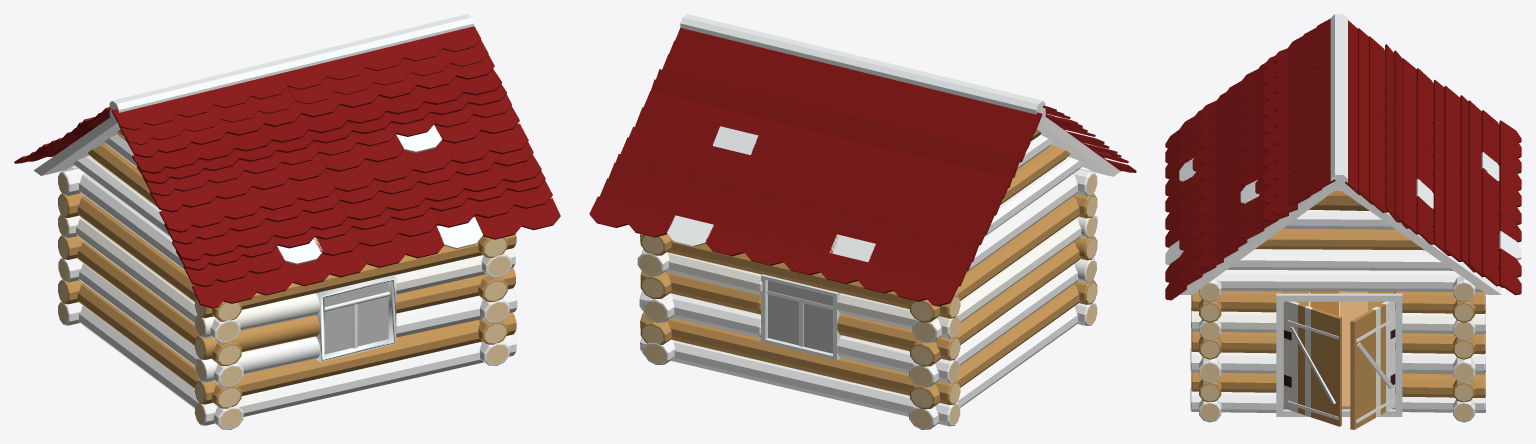
File: House_Phse2.fbx
The picture shows the model from 3 angles, left to right: view 1: azimuth 30°, elevation 25°; view 2: azimuth 150°, elevation 25°; view 3: azimuth 270°, elevation 25°; orthographic projection. The views are drawn at different scales.
Parts seen in each view (by area): view 1: polySurface152; view 2: polySurface152; view 3: polySurface152.
Boxes of the visible parts, x1,y1,x2,y2 form: polySurface152: [14, 14, 560, 429]; polySurface152: [589, 14, 1136, 429]; polySurface152: [1165, 14, 1521, 429].
Size of the model in its own units: 800 by 576 by 713.
